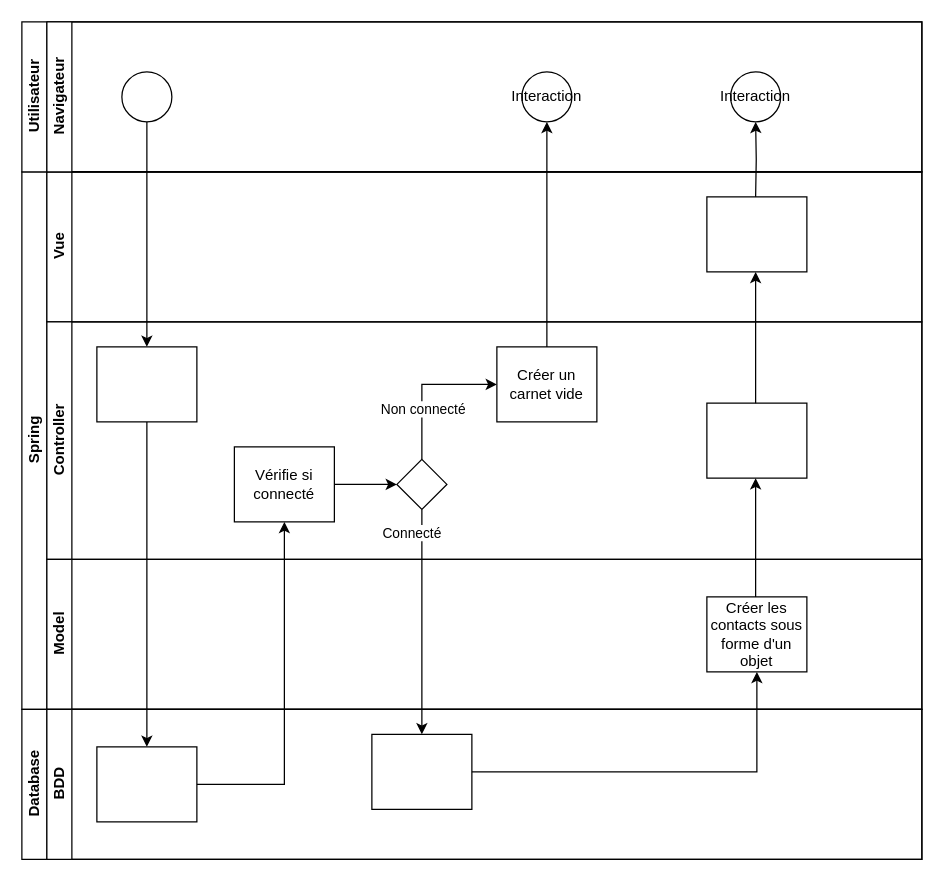
Some shapes in this 944 by 881 pixel diagram are drawn without their labels. Each missing label, with the centre of its shape:
Affiche les contacts: point (756, 234)
Charge les contact dans un tableau: point (756, 440)
Charge les contact de la personne: point (421, 771)
Depart: point (146, 96)
Envoie une requête: point (146, 384)
Récupère données utilisateur: point (146, 784)
